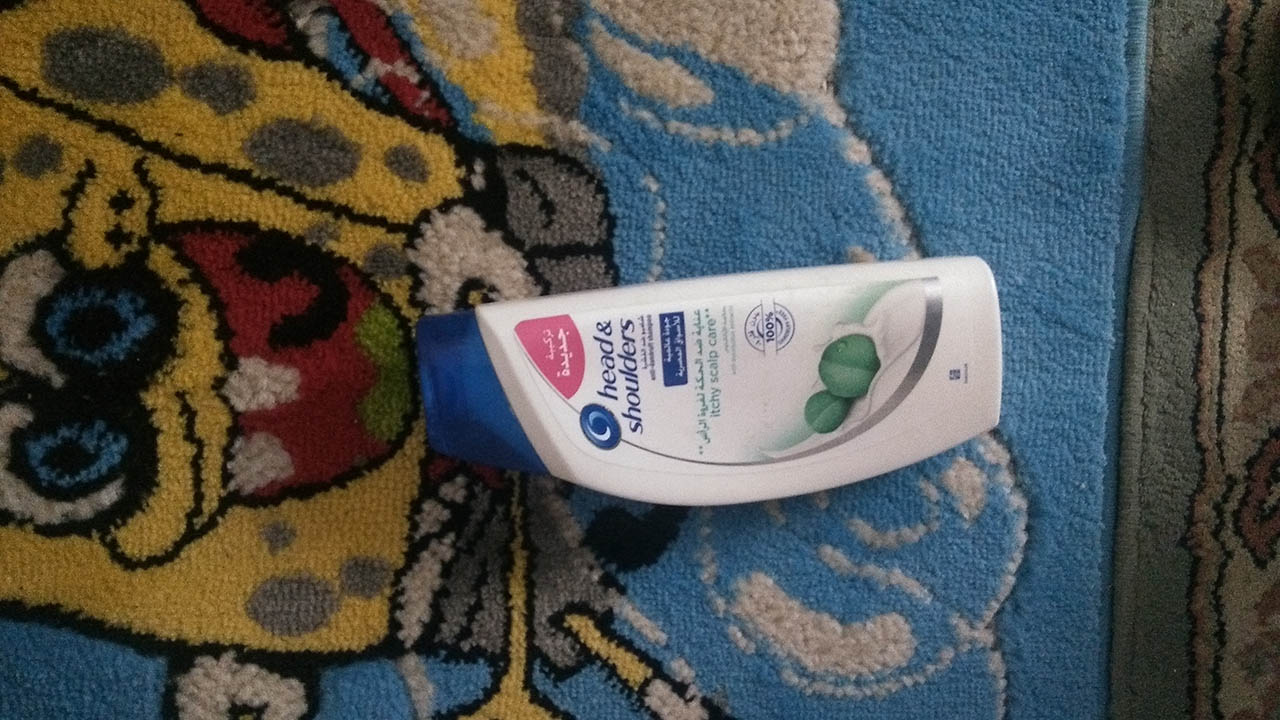shampoo-green 4.5$: (386, 241, 1026, 497)
